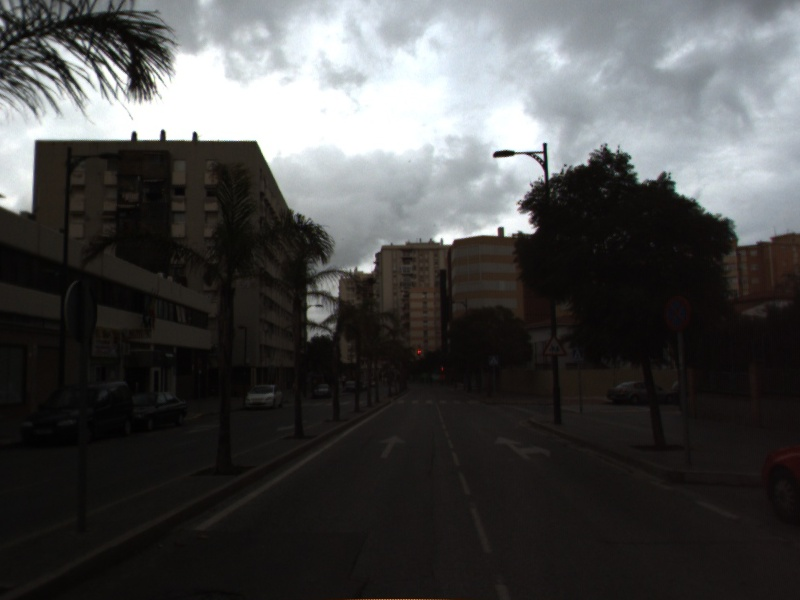STRAIGHT: (377, 433, 409, 460)
STRAIGHT_RIGHT: (492, 434, 553, 462)
